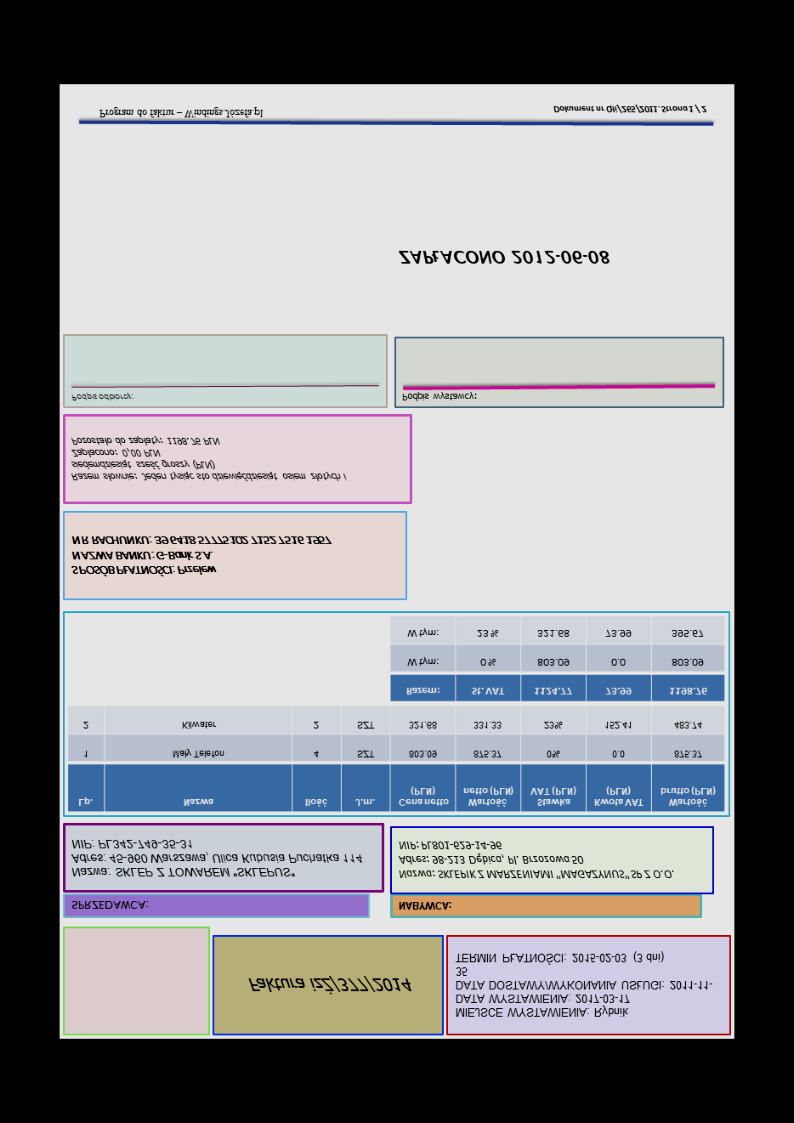Table: (66, 704, 726, 814), (388, 615, 727, 704)
TextBox: (453, 948, 716, 1022), (70, 434, 352, 485), (69, 835, 364, 881), (69, 530, 333, 580), (396, 837, 677, 883), (397, 247, 610, 269), (244, 973, 415, 996), (97, 105, 264, 123), (551, 102, 709, 118), (399, 389, 479, 405), (67, 899, 150, 914), (69, 390, 134, 406), (395, 898, 452, 916)
